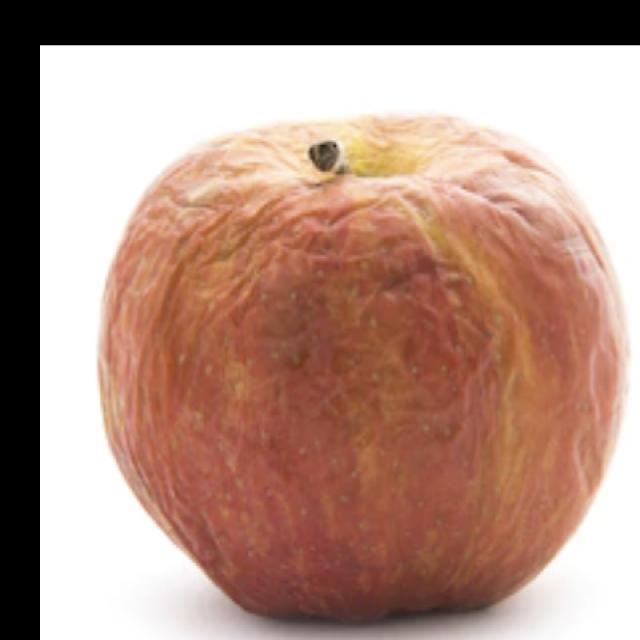Rotten: (115, 116, 640, 640)
